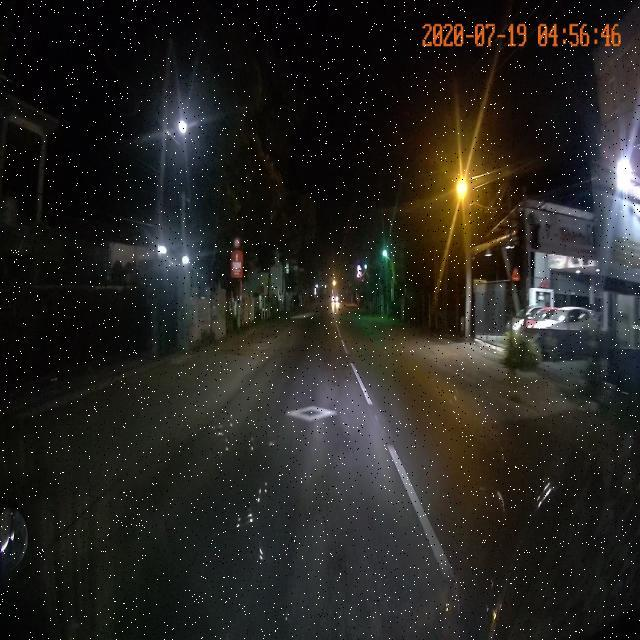diamond: (164, 405, 385, 431)
